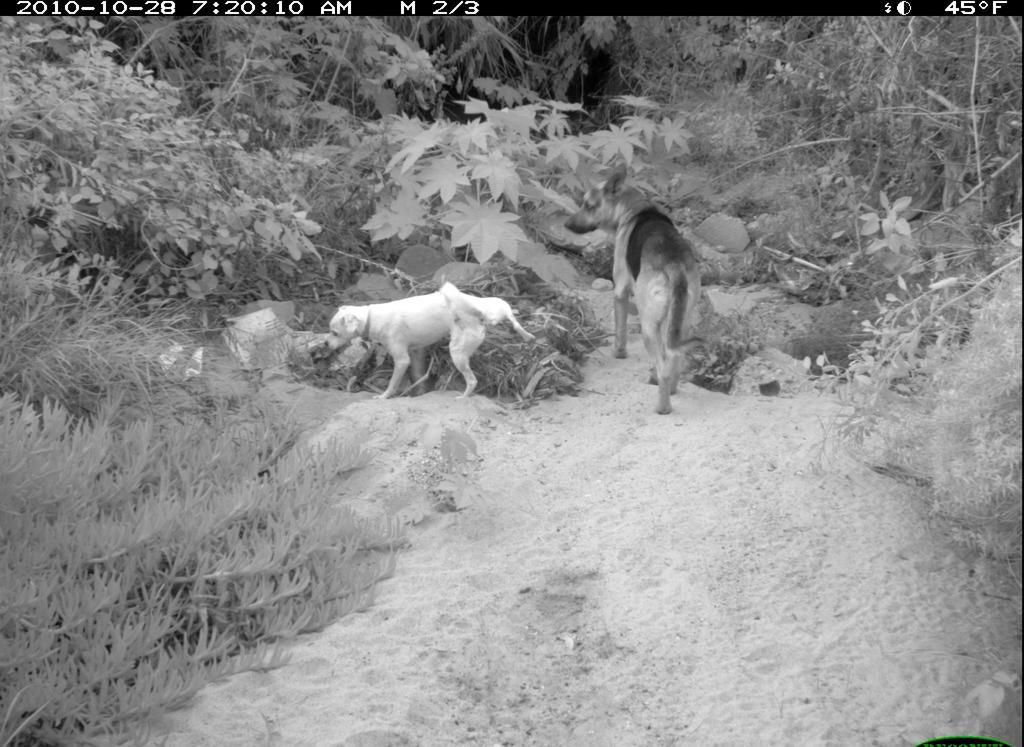dog: (569, 132, 734, 440), (303, 254, 545, 419)
